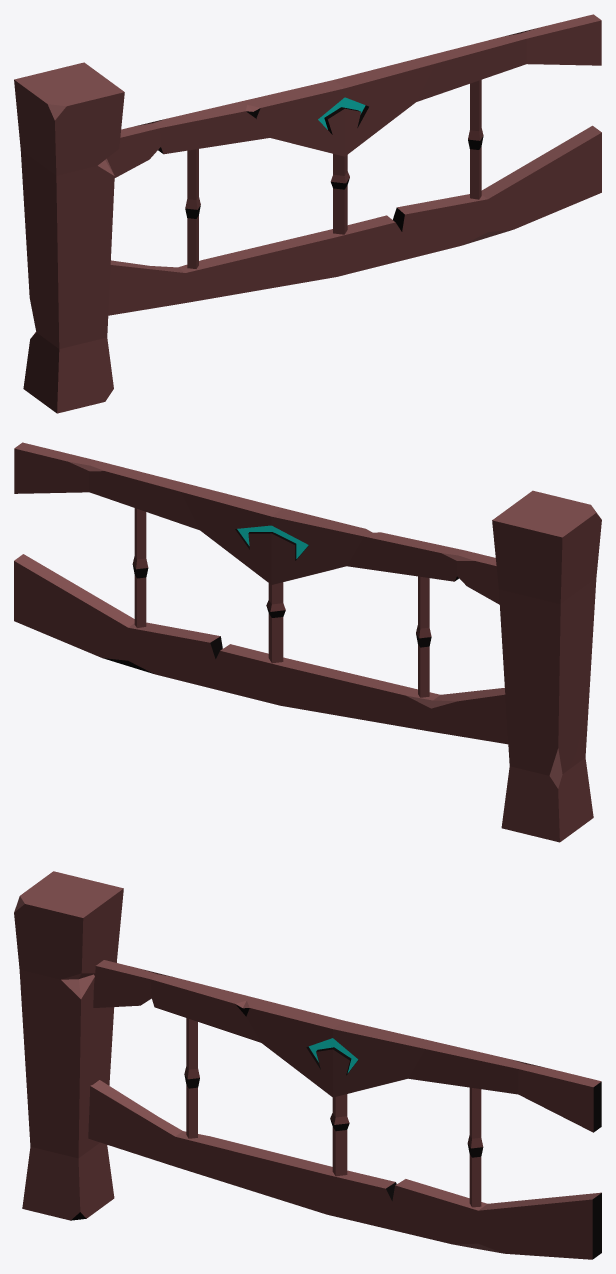
The model's file is FenceWoodLarge_01.glb.
3 renders of one model, top to bottom at view 1: azimuth 30°, elevation 25°; view 2: azimuth 150°, elevation 25°; view 3: azimuth 330°, elevation 25°, orthographic.
Parts seen in each view (by area): view 1: FenceWoodLarge_01; view 2: FenceWoodLarge_01; view 3: FenceWoodLarge_01.
Part boxes in pixels (x1=…): FenceWoodLarge_01: x1=14, y1=14, x2=601, y2=413; FenceWoodLarge_01: x1=14, y1=442, x2=601, y2=842; FenceWoodLarge_01: x1=14, y1=871, x2=601, y2=1259.
Size of what is drawn, in the model's own units: 2.13 by 1.11 by 0.2653.
2 materials, 2 textured.
